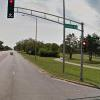Traffic light: (2, 1, 21, 22)
